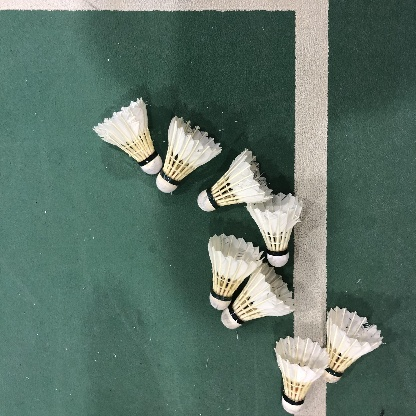ball_single: (93, 97, 163, 175), (156, 116, 222, 193), (221, 263, 295, 329), (197, 149, 273, 212), (322, 307, 383, 383), (275, 336, 330, 414), (208, 234, 263, 310), (247, 192, 302, 267)
